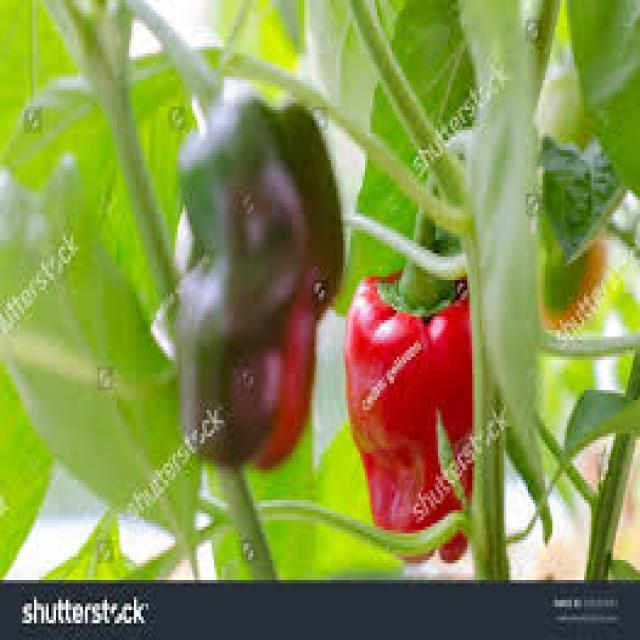bell_pepper: (149, 169, 337, 481)
